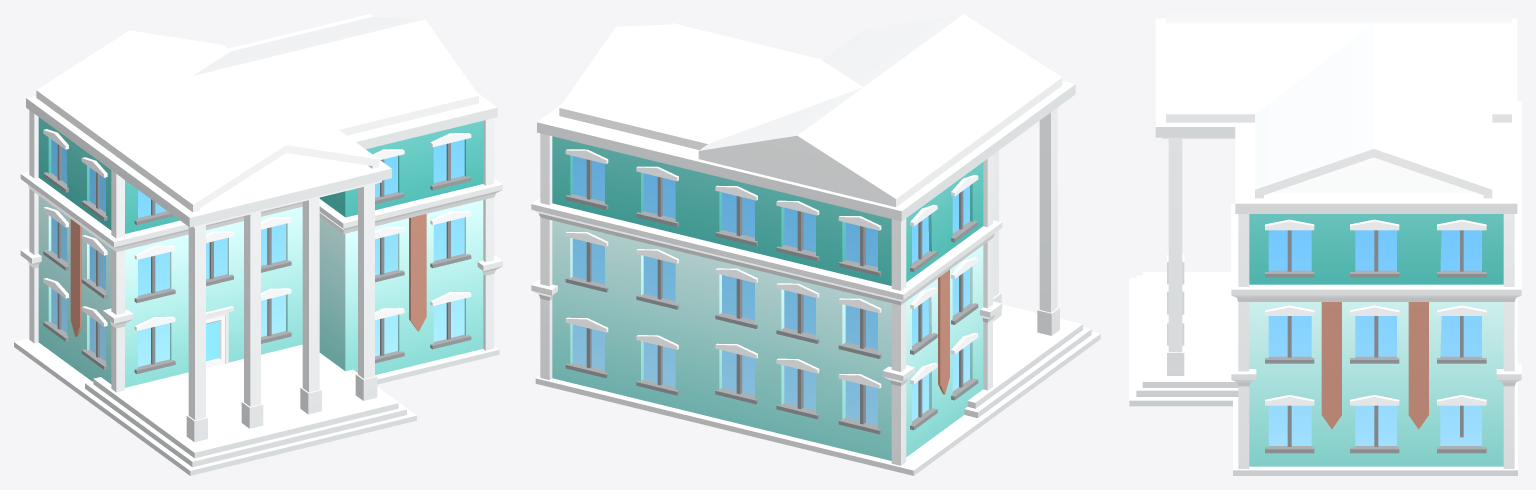
Rendered from Building_State_04.glb.
3 views of the same model, side by side, from view 1: azimuth 30°, elevation 25°; view 2: azimuth 150°, elevation 25°; view 3: azimuth 270°, elevation 25° (orthographic). The views are drawn at different scales.
Parts seen in each view (by area): view 1: Building_State_04; view 2: Building_State_04; view 3: Building_State_04.
Boxes of the visible parts, <box> form: Building_State_04: <box>14,14,502,475</box>; Building_State_04: <box>531,14,1100,475</box>; Building_State_04: <box>1129,14,1521,475</box>.
Bounding box in the file's own units: 16.55 × 12.83 × 14.19.
Materials: 1 (1 with a texture image).
